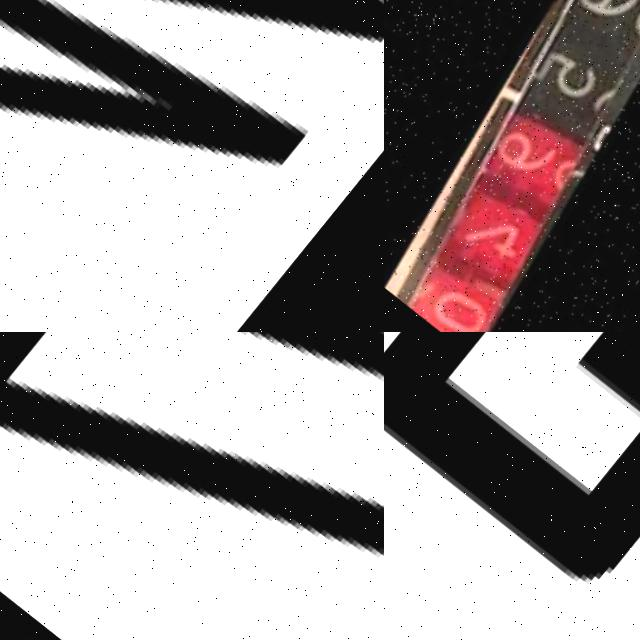0: (415, 271, 497, 332)
4: (455, 196, 538, 279)
5: (384, 332, 640, 623), (524, 33, 609, 120)
9: (479, 108, 567, 200), (563, 0, 640, 45)
W: (0, 0, 384, 332)
